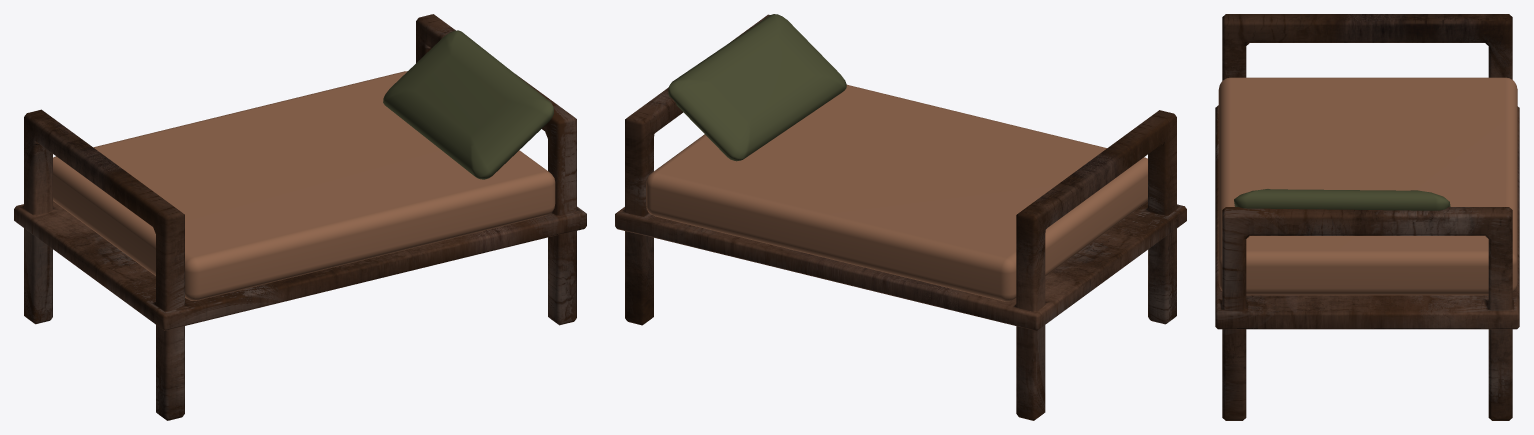
Rendered from BedServant2.fbx.
3 views of the same model, side by side, from view 1: azimuth 30°, elevation 25°; view 2: azimuth 150°, elevation 25°; view 3: azimuth 270°, elevation 25° (orthographic).
Parts seen in each view (by area): view 1: Mattress, Frame, Pillow3; view 2: Mattress, Frame, Pillow3; view 3: Mattress, Frame, Pillow3.
Part boxes in pixels (<box>): Mattress: <box>53,71,555,300</box>; Frame: <box>14,14,586,420</box>; Pillow3: <box>383,30,553,179</box>; Mattress: <box>646,84,1147,301</box>; Frame: <box>615,14,1186,420</box>; Pillow3: <box>668,14,846,161</box>; Mattress: <box>1218,77,1517,295</box>; Frame: <box>1215,14,1519,420</box>; Pillow3: <box>1234,189,1450,210</box>.
Size of the model in its own units: 3.57 by 1.75 by 2.2.
